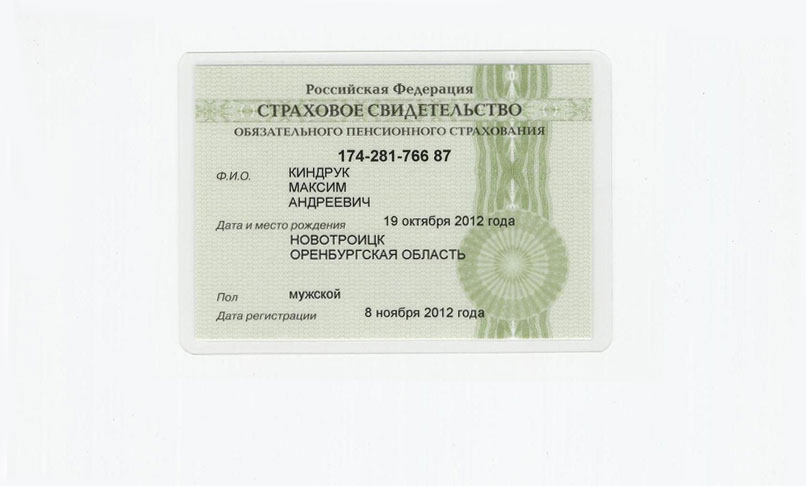text: (287, 231, 471, 265), (383, 213, 522, 230), (335, 145, 459, 163), (360, 306, 488, 322), (284, 194, 374, 210), (281, 163, 359, 180), (282, 180, 354, 195), (286, 285, 347, 299)
